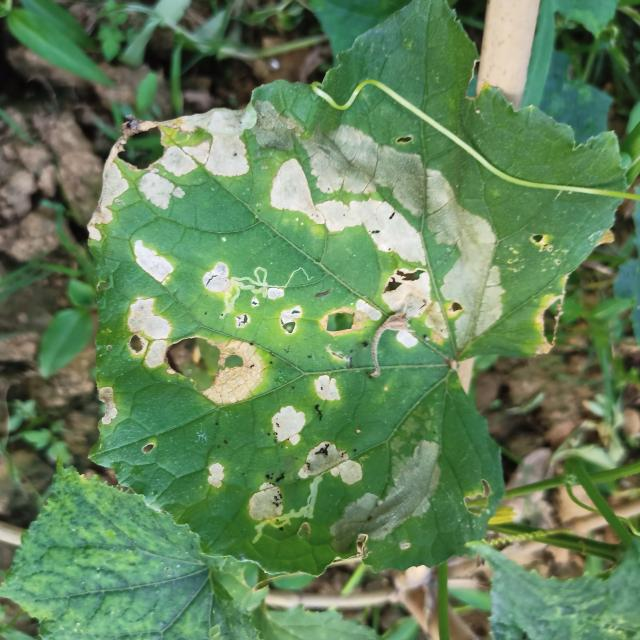disease_cucumber: (94, 296, 387, 546), (266, 100, 505, 350), (86, 96, 258, 322)
